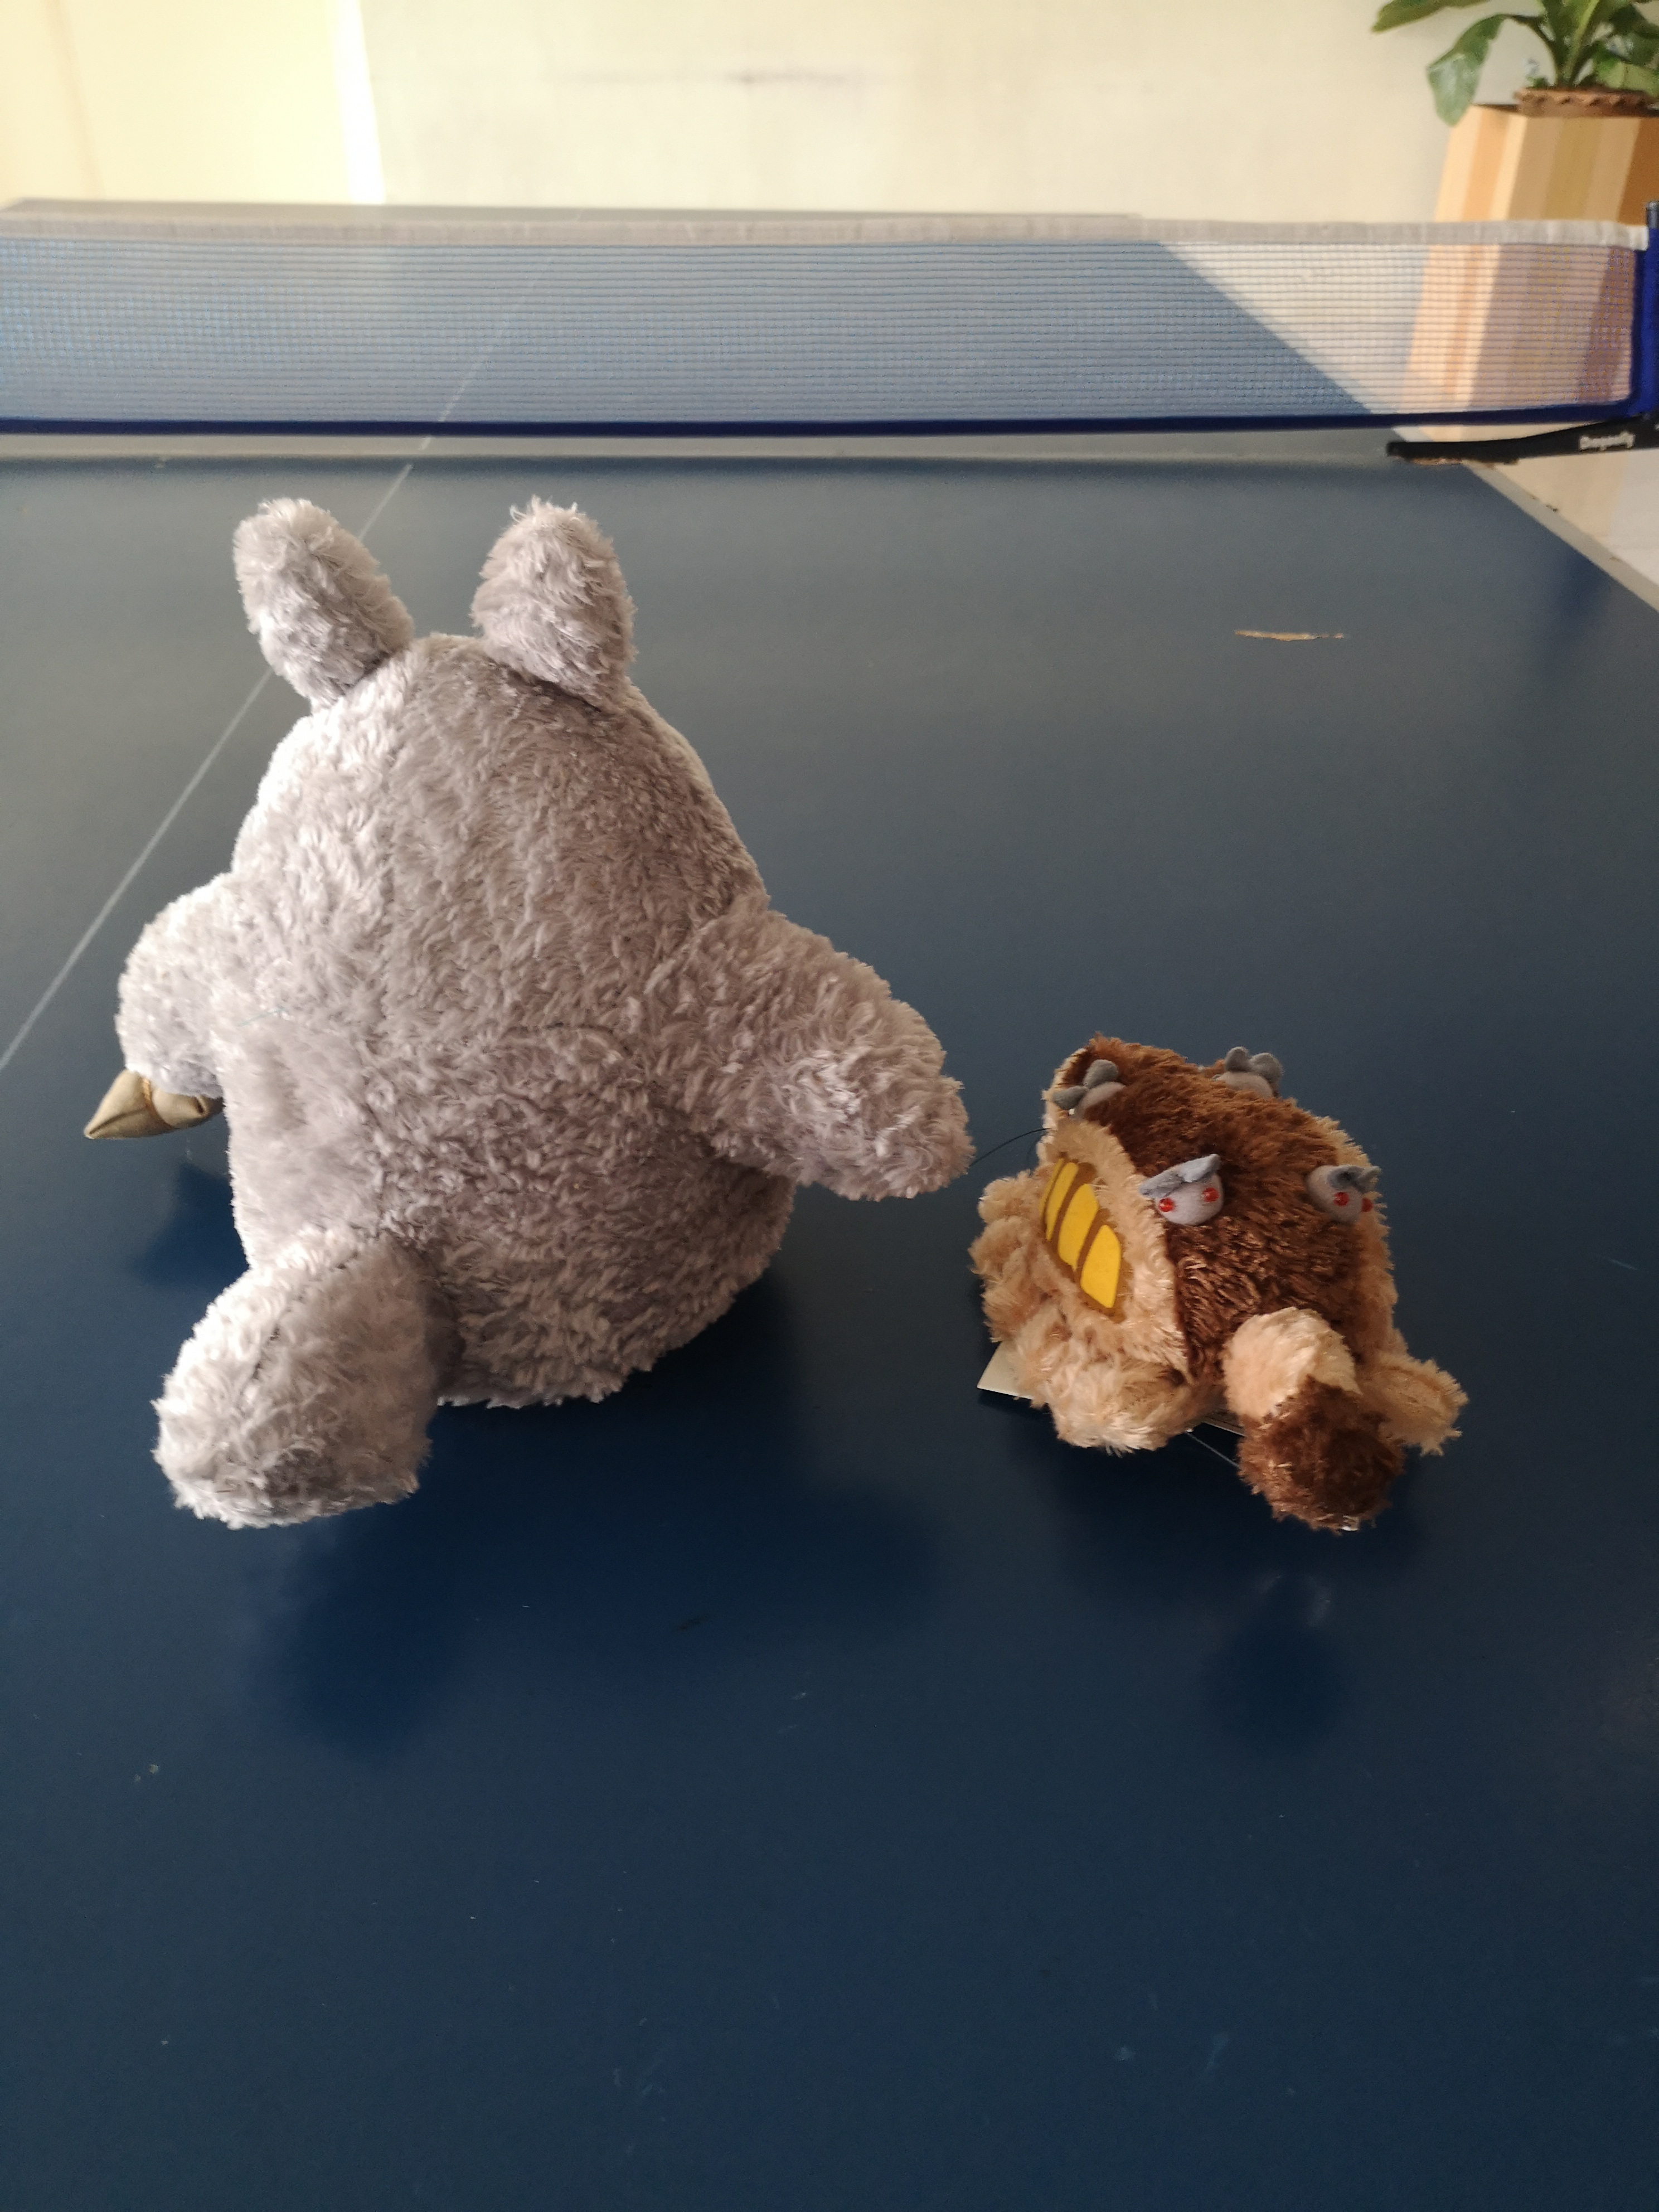nekobus: (976, 1010, 1490, 1566)
totoro: (77, 475, 972, 1547)
